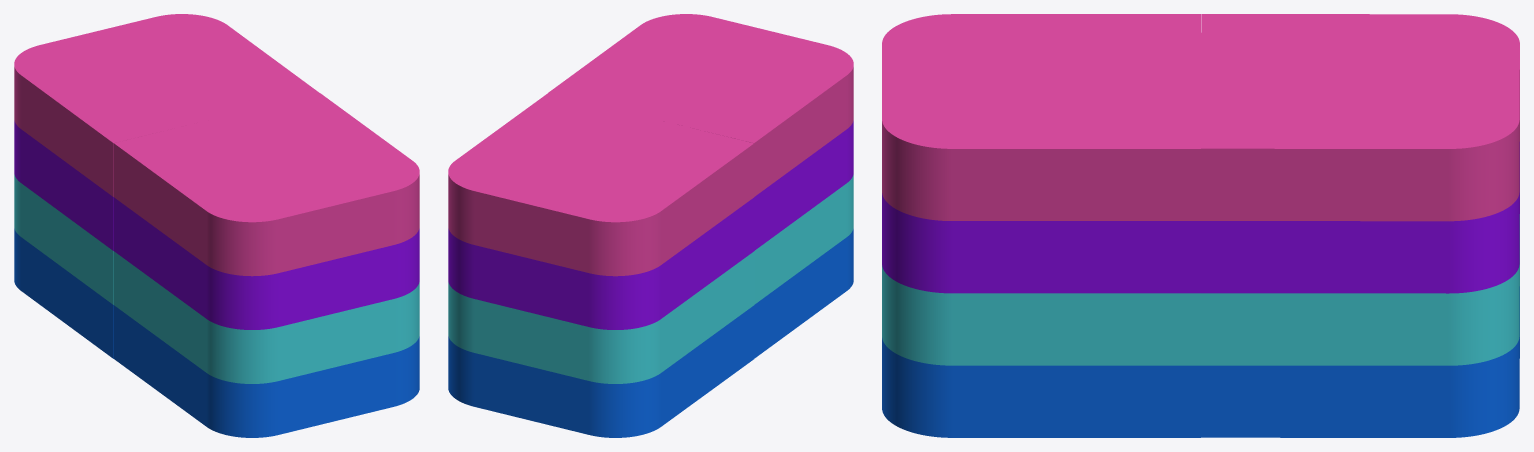
File: pastry3.fbx
3 views of the same model, side by side, from view 1: azimuth 30°, elevation 25°; view 2: azimuth 150°, elevation 25°; view 3: azimuth 270°, elevation 25° (orthographic). The views are drawn at different scales.
Parts seen in each view (by area): view 1: Cube.185, Cube.189, Cube.183, Cube.182, Cube.184, Cube.186, Cube.187, Cube.188; view 2: Cube.189, Cube.185, Cube.186, Cube.188, Cube.187, Cube.182, Cube.183, Cube.184; view 3: Cube.189, Cube.185, Cube.187, Cube.186, Cube.188, Cube.182, Cube.183, Cube.184.
Boxes of the visible parts, left/top/right/bottom form: Cube.185: left=114, top=93, right=419, bottom=276; Cube.189: left=14, top=14, right=319, bottom=196; Cube.183: left=114, top=251, right=419, bottom=383; Cube.182: left=114, top=305, right=419, bottom=437; Cube.184: left=114, top=197, right=419, bottom=329; Cube.186: left=14, top=228, right=113, bottom=358; Cube.187: left=14, top=174, right=113, bottom=304; Cube.188: left=14, top=120, right=113, bottom=250; Cube.189: left=448, top=93, right=754, bottom=276; Cube.185: left=548, top=14, right=853, bottom=196; Cube.186: left=448, top=305, right=754, bottom=437; Cube.188: left=448, top=197, right=754, bottom=329; Cube.187: left=448, top=251, right=754, bottom=383; Cube.182: left=754, top=229, right=853, bottom=358; Cube.183: left=754, top=175, right=853, bottom=304; Cube.184: left=754, top=121, right=853, bottom=250; Cube.189: left=1200, top=14, right=1519, bottom=221; Cube.185: left=882, top=14, right=1200, bottom=220; Cube.187: left=1201, top=214, right=1519, bottom=365; Cube.186: left=1201, top=286, right=1519, bottom=437; Cube.188: left=1201, top=142, right=1519, bottom=293; Cube.182: left=882, top=338, right=1200, bottom=437; Cube.183: left=882, top=265, right=1200, bottom=365; Cube.184: left=882, top=193, right=1200, bottom=293.
Bounding box in the file's own units: 200 × 200 × 400.
